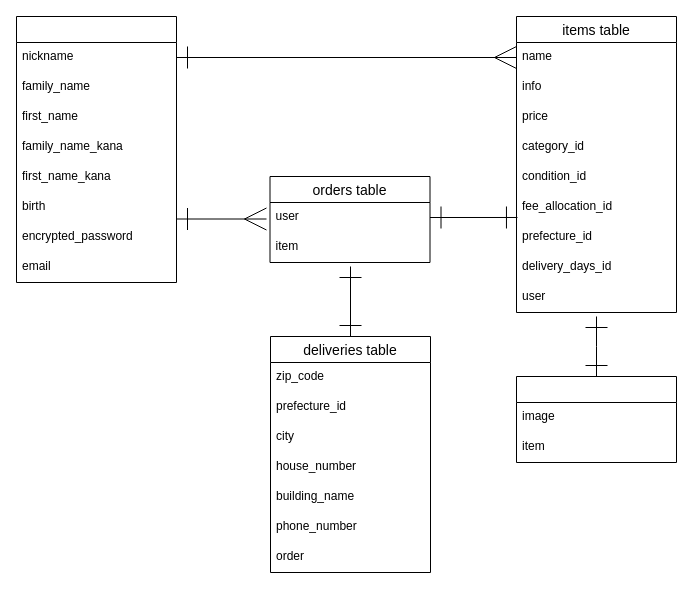
Image size: 693x589. Some labels were removed from this diagram. The shapes that lost their labels are listed below. From the top down, each one's box as (x1, y1, x2, y2) in pixels, then its label:
(16, 16, 176, 282): users table
(516, 376, 676, 462): ActiveStorage
